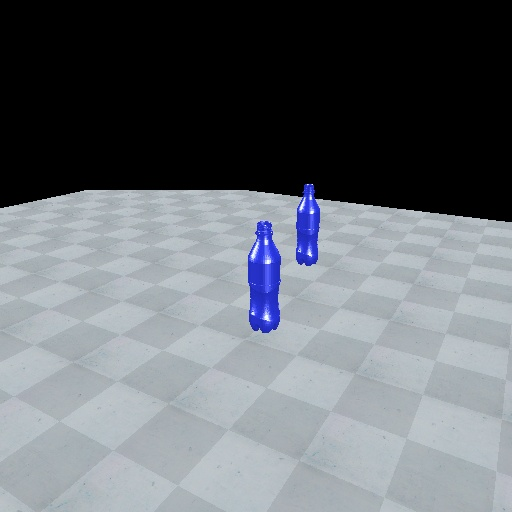bottle: (245, 220, 282, 335), (294, 181, 321, 266)
